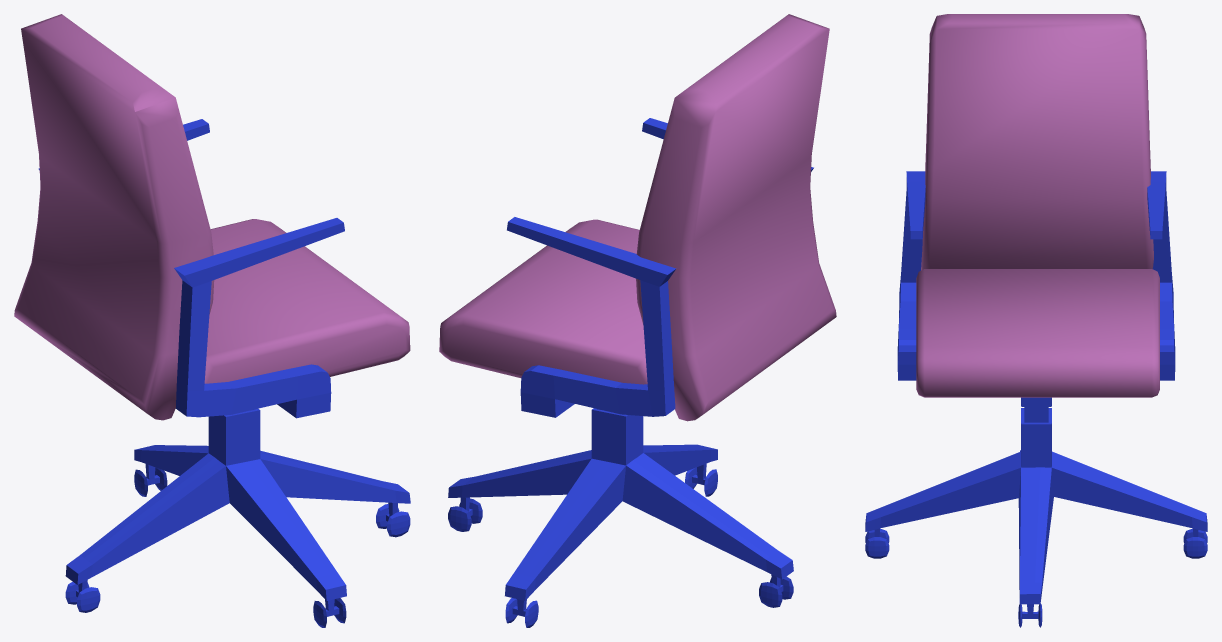
Rendered from SillaDeEscritorio.fbx.
3 renders of one model, left to right at view 1: azimuth 30°, elevation 25°; view 2: azimuth 150°, elevation 25°; view 3: azimuth 270°, elevation 25°, orthographic. The views are drawn at different scales.
Parts seen in each view (by area): view 1: Respaldo, Asiento, Soporte, Rueda4, Rueda1, Rueda2, Rueda3; view 2: Respaldo, Asiento, Soporte, Rueda4, Rueda3, Rueda2, Rueda1; view 3: Respaldo, Asiento, Soporte, Rueda1, Rueda3, Rueda2.
Part boxes in pixels (bbox=[...]): Respaldo: bbox=[14, 14, 214, 420]; Asiento: bbox=[204, 219, 410, 383]; Soporte: bbox=[38, 119, 344, 465]; Rueda4: bbox=[65, 453, 229, 612]; Rueda1: bbox=[226, 459, 346, 627]; Rueda2: bbox=[260, 450, 410, 537]; Rueda3: bbox=[134, 445, 208, 496]; Respaldo: bbox=[636, 14, 836, 421]; Asiento: bbox=[439, 219, 647, 384]; Soporte: bbox=[507, 118, 813, 465]; Rueda4: bbox=[622, 453, 793, 607]; Rueda3: bbox=[505, 458, 625, 627]; Rueda2: bbox=[448, 450, 591, 531]; Rueda1: bbox=[643, 444, 717, 496]; Respaldo: bbox=[921, 14, 1153, 270]; Asiento: bbox=[916, 269, 1159, 397]; Soporte: bbox=[897, 171, 1175, 467]; Rueda1: bbox=[865, 451, 1021, 558]; Rueda3: bbox=[1051, 451, 1207, 558]; Rueda2: bbox=[1018, 467, 1053, 627].
Size of the model in its own units: 277 by 433 by 277.
